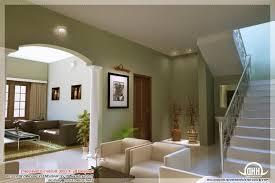chair: (129, 141, 192, 179), (98, 137, 152, 173), (151, 165, 219, 183), (2, 160, 44, 182)
door: (135, 75, 152, 136)
light: (51, 22, 67, 44), (170, 48, 181, 58), (186, 48, 194, 55)
sofa: (32, 117, 83, 146), (4, 119, 34, 131)
table: (4, 125, 39, 150), (92, 166, 136, 183), (163, 140, 200, 152)
